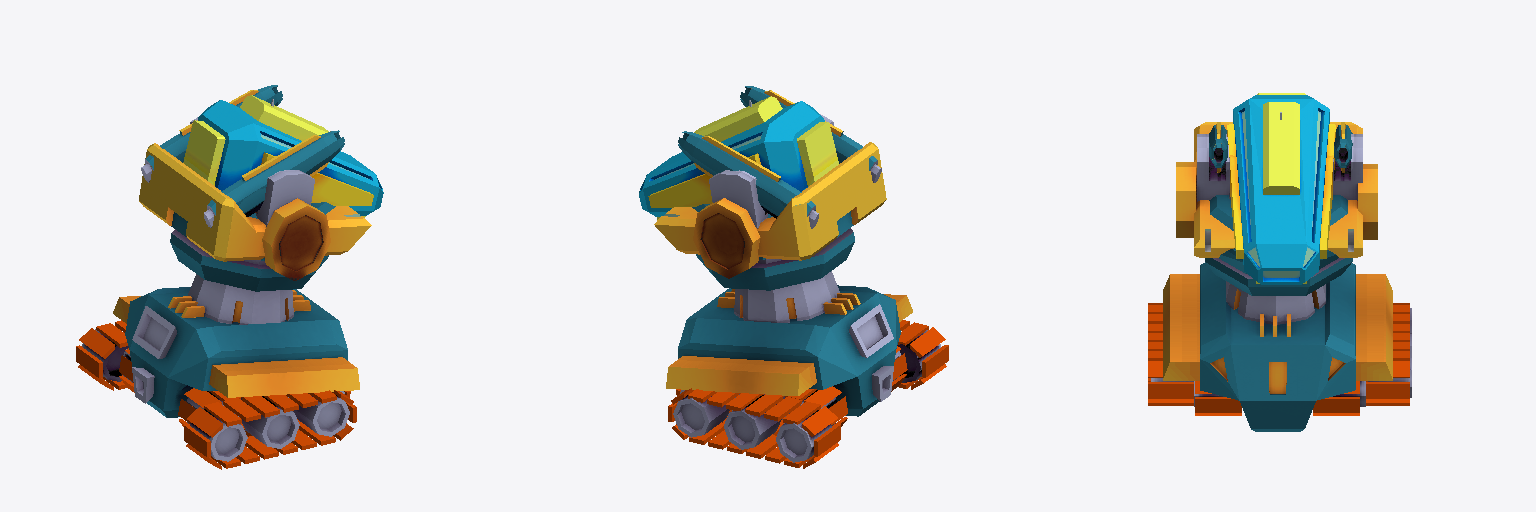
The picture shows the model from 3 angles: view 1: azimuth 30°, elevation 25°; view 2: azimuth 150°, elevation 25°; view 3: azimuth 270°, elevation 25°; orthographic projection.
Visible parts, largest first — view 1: Object015, Box020, Object014, Box018, Box019, Box017; view 2: Object015, Box019, Object014, Box018, Box020, Box016; view 3: Object015, Box019, Box020, Object014, Box017, Box016.
Part boxes in pixels (left/top/right/bottom): Object015: left=113, top=95, right=383, bottom=417; Box020: left=184, top=390, right=356, bottom=469; Object014: left=141, top=85, right=344, bottom=227; Box018: left=82, top=329, right=349, bottom=461; Box019: left=76, top=320, right=127, bottom=390; Box017: left=178, top=388, right=350, bottom=436; Object015: left=639, top=96, right=912, bottom=416; Box019: left=668, top=388, right=840, bottom=468; Object014: left=678, top=86, right=881, bottom=228; Box018: left=673, top=330, right=940, bottom=462; Box020: left=898, top=320, right=948, bottom=389; Box016: left=676, top=386, right=847, bottom=435; Object015: left=1163, top=93, right=1392, bottom=431; Box019: left=1366, top=303, right=1409, bottom=405; Box020: left=1148, top=303, right=1193, bottom=405; Object014: left=1209, top=122, right=1352, bottom=172; Box017: left=1195, top=381, right=1241, bottom=415; Box016: left=1313, top=381, right=1359, bottom=415.
Size of the model in its own units: 70.38 by 88.9 by 68.55.
6 materials, 2 textured.